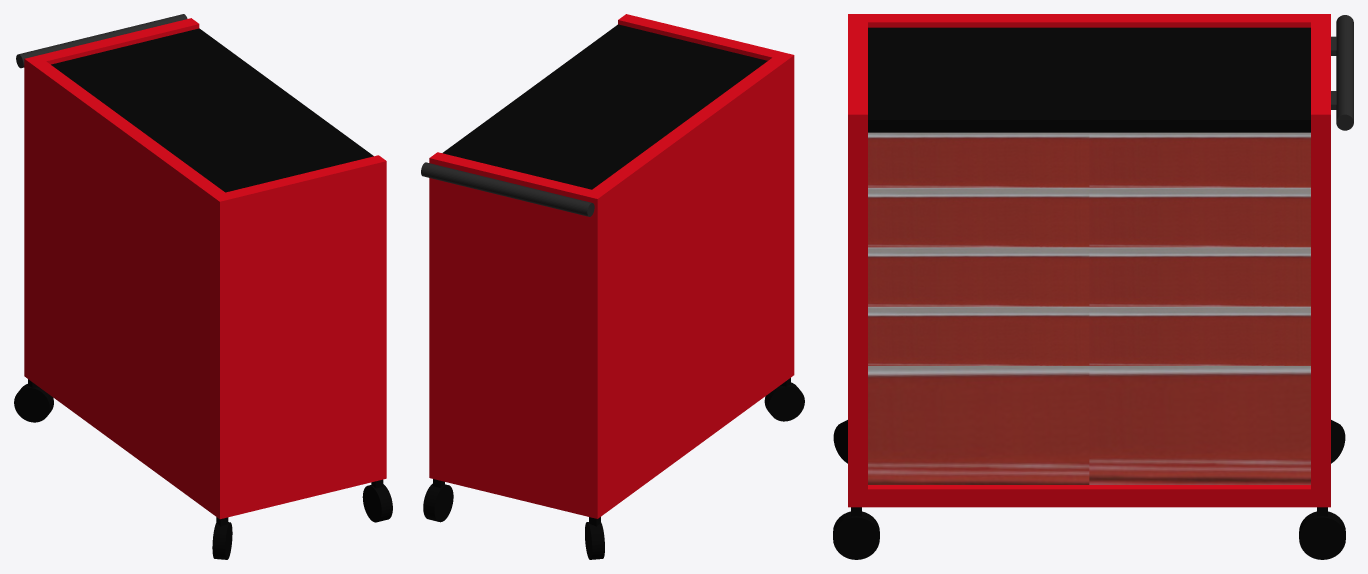
File: toolBox.fbx
3 renders of one model, left to right at view 1: azimuth 30°, elevation 25°; view 2: azimuth 150°, elevation 25°; view 3: azimuth 270°, elevation 25°, orthographic. The views are drawn at different scales.
Parts seen in each view (by area): view 1: Cube; view 2: Cube; view 3: Cube.
Part boxes in pixels (x1,y1,x2,y2): Cube: (14,14,392,559); Cube: (421,14,804,559); Cube: (833,14,1353,559).
Bounding box in the file's own units: 128 × 250 × 265.
